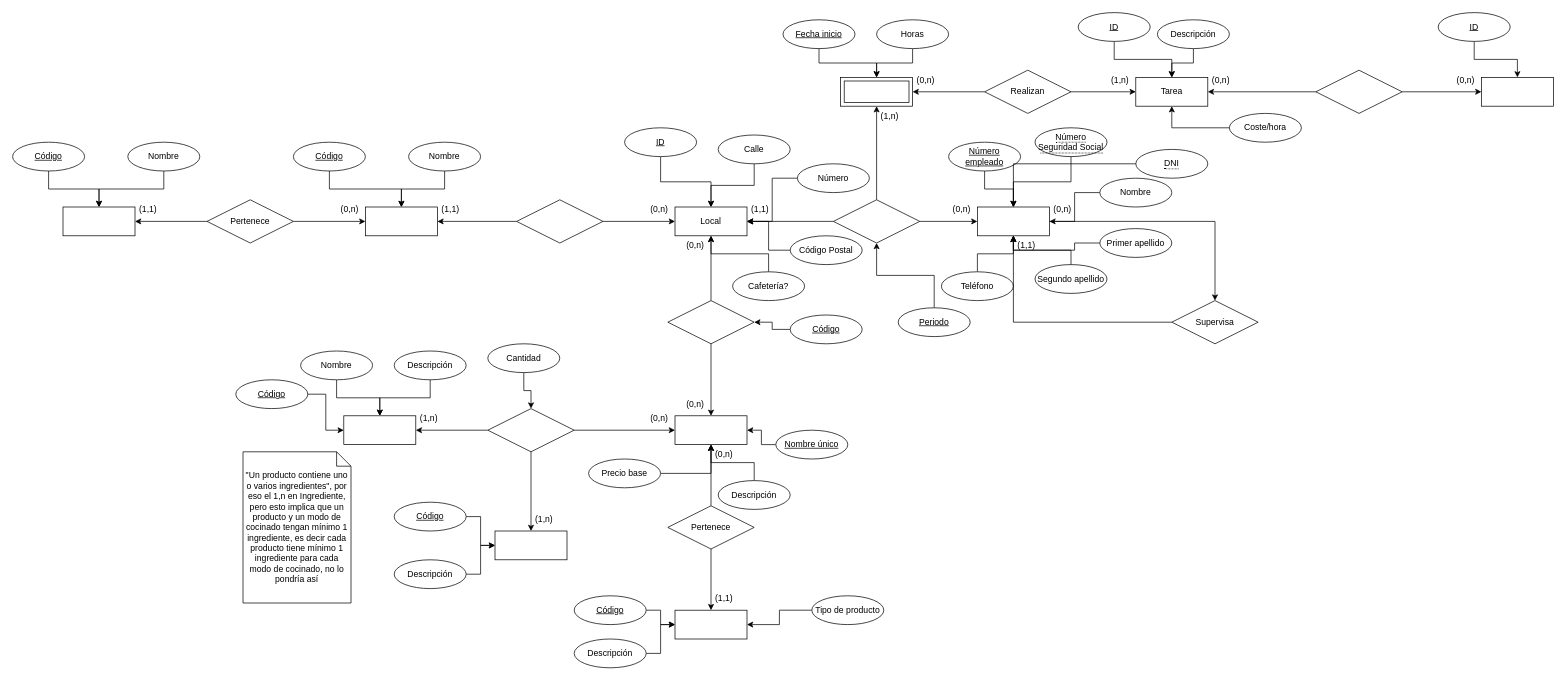
Image size: 1566x680. Some labels were removed from this diagram. Each missing label, with the centre of its shape:
Categoría: point (710, 624)
Empleado: point (1013, 221)
Está en: point (559, 221)
Ingrediente: point (379, 430)
Modo de cocinado: point (530, 545)
Población: point (401, 221)
Prerrequisito: point (1517, 91)
Producto: point (710, 430)
Provincia: point (98, 221)
Requiere: point (1358, 91)
Tiene: point (530, 430)
Trabaja: point (876, 221)
Turno: point (876, 91)
Vende: point (710, 322)
